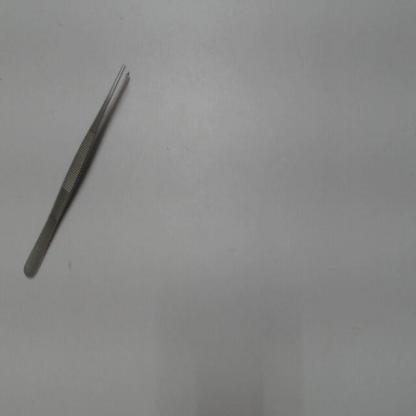Gillies Toothed Dissector: (16, 56, 140, 288)
